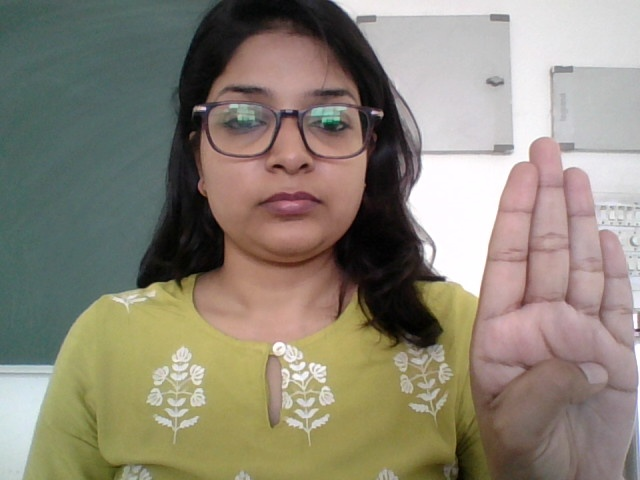B: (462, 134, 640, 479)
